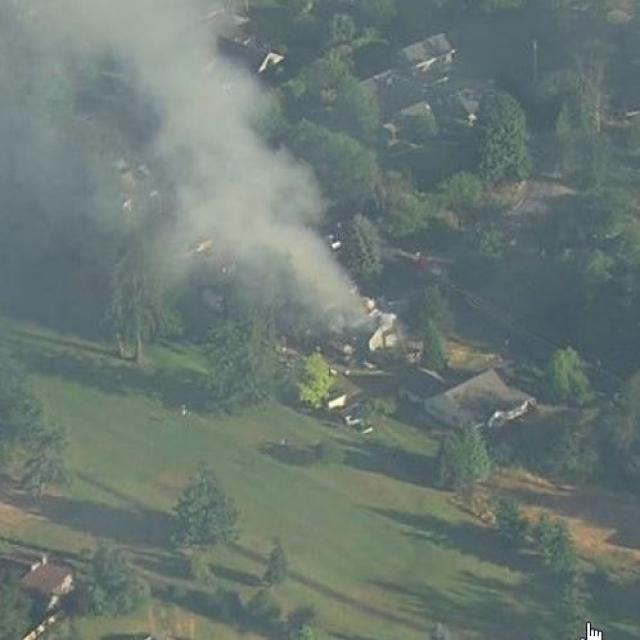Smoke: (21, 72, 450, 370), (3, 8, 342, 217), (300, 351, 329, 407)
